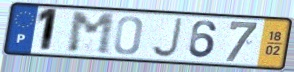0: (112, 15, 146, 56)
1: (35, 7, 59, 55)
6: (188, 19, 218, 60)
7: (224, 20, 260, 63)
J: (149, 17, 184, 59)
M: (67, 11, 117, 57)
